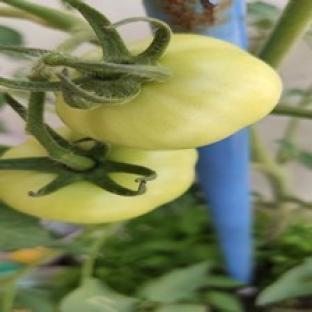Tomato: (56, 35, 281, 149), (0, 147, 197, 224), (10, 247, 48, 264)
